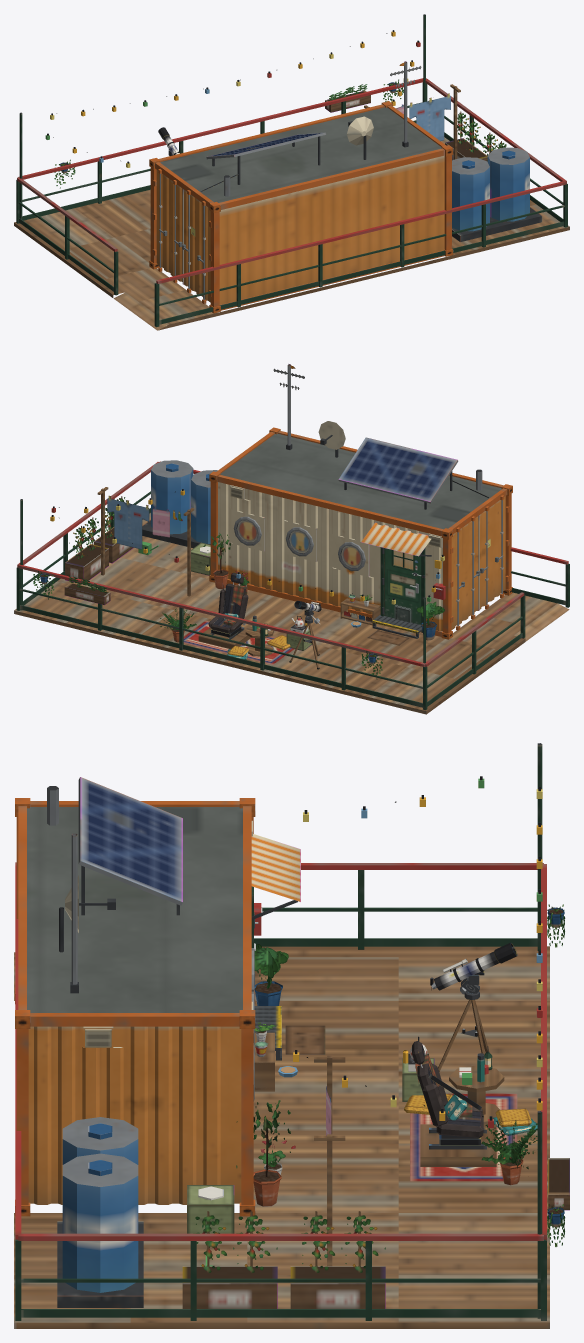
File: RoofHome.fbx
3 renders of one model, top to bottom at view 1: azimuth 30°, elevation 25°; view 2: azimuth 150°, elevation 25°; view 3: azimuth 270°, elevation 25°, orthographic. The views are drawn at different scales.
Visible parts, largest first — view 1: RoofHome; view 2: RoofHome; view 3: RoofHome.
Boxes of the visible parts, x1,y1,x2,y2 form: RoofHome: (14, 14, 569, 330); RoofHome: (14, 364, 569, 714); RoofHome: (14, 743, 569, 1328).
Bounding box in the file's own units: 10.32 × 4.6 × 6.43.
